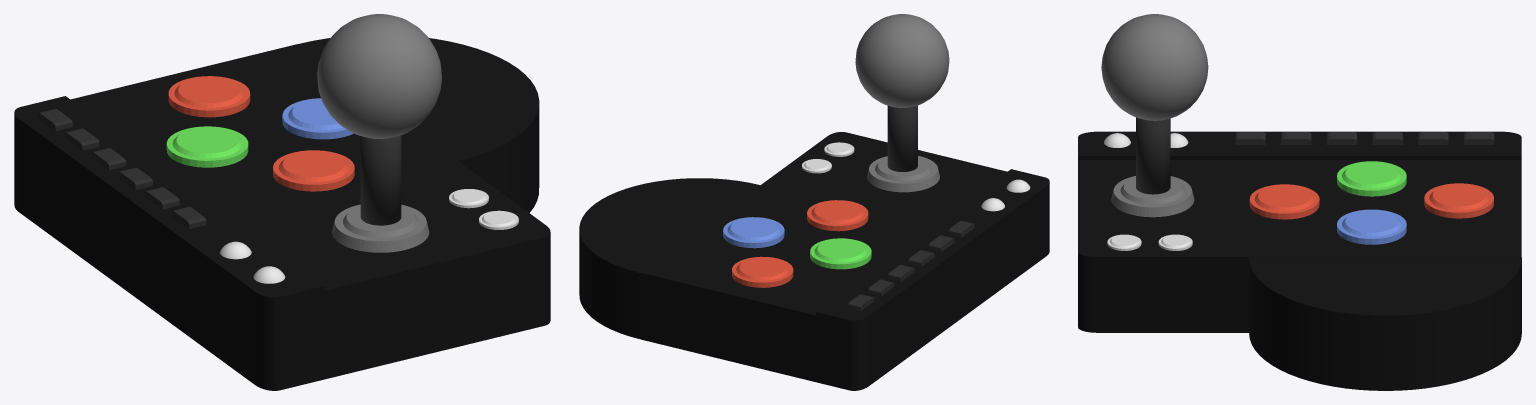
The model's file is uploads_files_3201723_joystick3.fbx.
3 views of the same model, side by side, from view 1: azimuth 30°, elevation 25°; view 2: azimuth 150°, elevation 25°; view 3: azimuth 270°, elevation 25° (orthographic). The views are drawn at different scales.
Parts seen in each view (by area): view 1: Cube, Circle, Sphere, Cylinder, Cube.001, Circle.001, Circle.002, Circle.004, Circle.005, Circle.003, Circle.006, Sphere.001; view 2: Cube, Circle, Sphere, Cylinder, Cube.001, Circle.001, Circle.002, Circle.005, Circle.004, Circle.003, Circle.006, Sphere.001; view 3: Cube, Circle, Sphere, Cylinder, Cube.001, Circle.001, Circle.005, Circle.003, Circle.002, Circle.004, Circle.006, Sphere.001.
Boxes of the visible parts, box(x1,y1,x2,y2) form: Cube: box(14, 44, 550, 390); Circle: box(299, 38, 539, 212); Sphere: box(317, 14, 441, 138); Cylinder: box(360, 135, 401, 225); Cube.001: box(37, 108, 206, 229); Circle.001: box(332, 204, 429, 252); Circle.002: box(166, 126, 248, 167); Circle.004: box(168, 76, 250, 117); Circle.005: box(273, 150, 354, 191); Circle.003: box(282, 98, 353, 139); Circle.006: box(449, 189, 518, 229); Sphere.001: box(220, 241, 285, 283); Cube: box(641, 132, 1049, 390); Circle: box(579, 178, 759, 340); Sphere: box(855, 14, 949, 107); Cylinder: box(887, 105, 917, 171); Cube.001: box(848, 220, 974, 310); Circle.001: box(867, 156, 939, 192); Circle.002: box(810, 238, 871, 269); Circle.005: box(807, 200, 868, 231); Circle.004: box(732, 256, 793, 287); Circle.003: box(723, 217, 784, 248); Circle.006: box(802, 142, 854, 173); Sphere.001: box(981, 179, 1030, 211); Cube: box(1078, 131, 1521, 332); Circle: box(1249, 257, 1521, 390); Sphere: box(1101, 14, 1208, 120); Cylinder: box(1136, 117, 1170, 194); Cube.001: box(1235, 132, 1494, 144); Circle.001: box(1111, 176, 1194, 217); Circle.005: box(1249, 184, 1319, 219); Circle.003: box(1337, 209, 1406, 244); Circle.002: box(1337, 161, 1406, 196); Circle.004: box(1424, 183, 1493, 218); Circle.006: box(1107, 234, 1192, 250); Sphere.001: box(1103, 133, 1188, 147).
Bounding box in the file's own units: 505 × 338 × 527.
